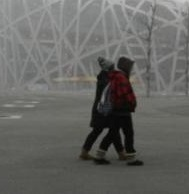person: (91, 57, 145, 167), (78, 55, 132, 164)
